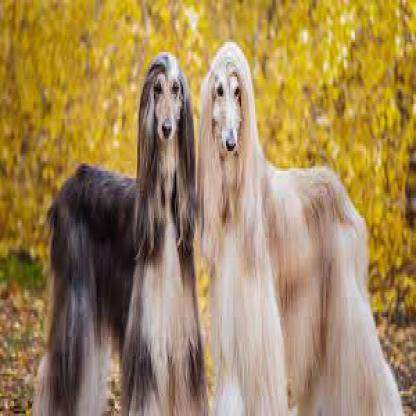dog: (198, 37, 400, 416), (35, 52, 208, 416)
